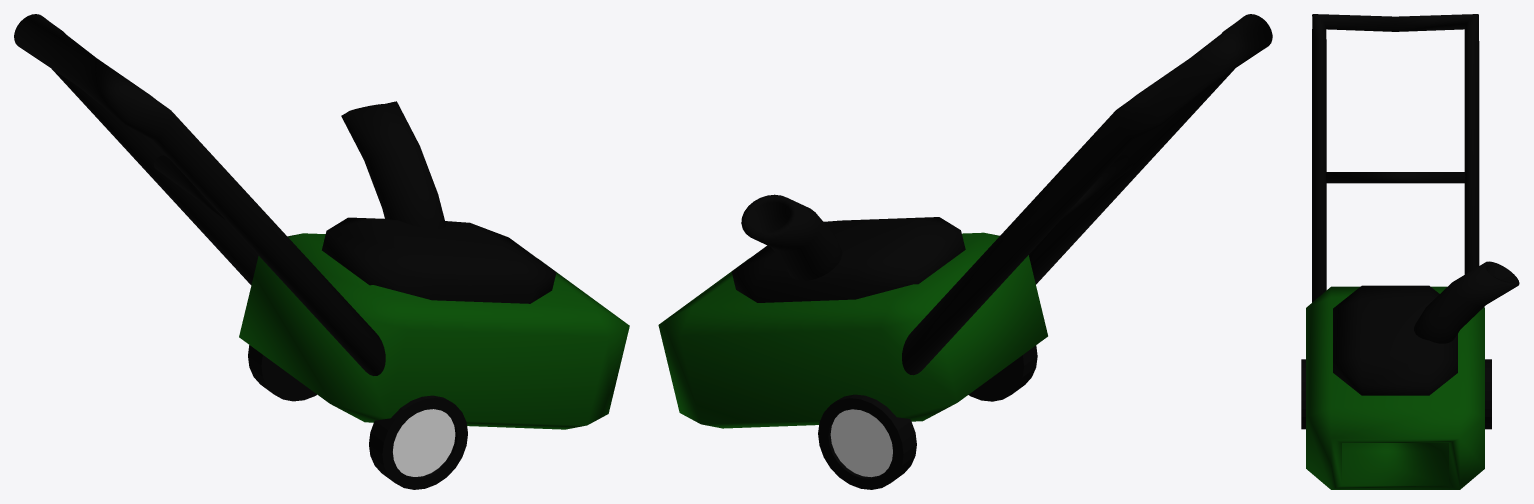
File: SnowBlower.fbx
3 views of the same model, side by side, from view 1: azimuth 30°, elevation 25°; view 2: azimuth 150°, elevation 25°; view 3: azimuth 270°, elevation 25° (orthographic). The views are drawn at different scales.
Parts seen in each view (by area): view 1: Cylinder.017; view 2: Cylinder.017; view 3: Cylinder.017.
Part boxes in pixels (left/top/right/bottom): Cylinder.017: left=14, top=14, right=629, bottom=489; Cylinder.017: left=658, top=14, right=1272, bottom=489; Cylinder.017: left=1301, top=14, right=1519, bottom=489.
Bounding box in the file's own units: 117 × 97.69 × 60.5.
